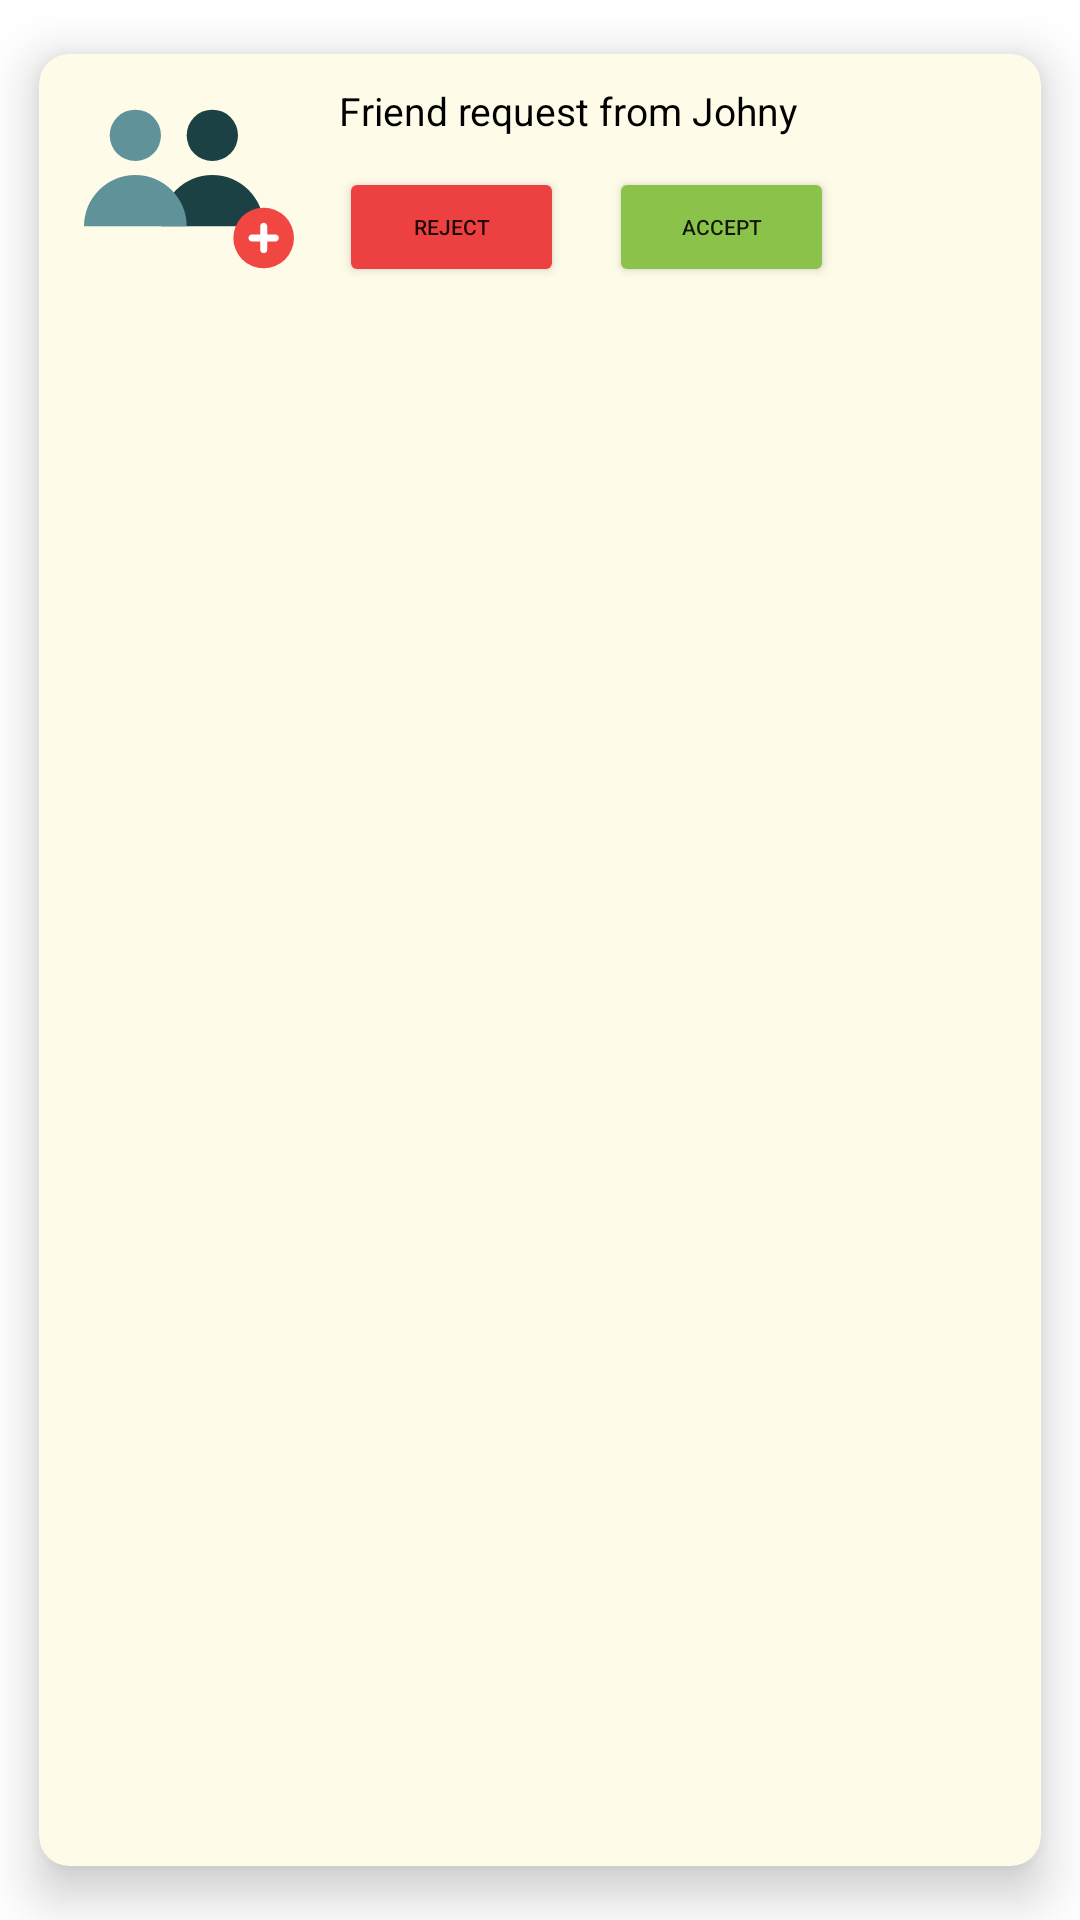

Named icons in this screenshot (1080w x 1920h) and their centers, [x,y]:
users friends: [189,189]
